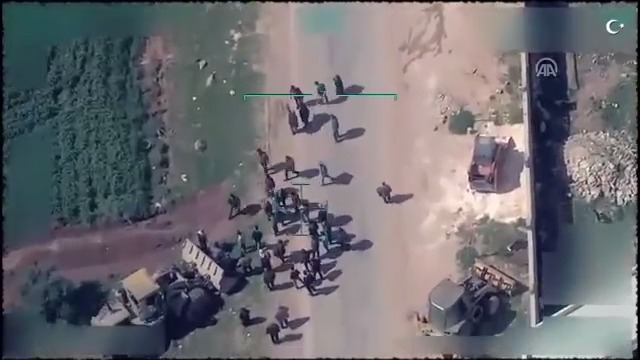arac: (84, 239, 244, 344), (408, 246, 517, 341), (464, 123, 523, 200)
insan: (225, 190, 249, 222), (317, 155, 339, 188), (299, 267, 321, 300), (325, 111, 345, 144), (279, 154, 300, 184), (374, 180, 396, 207), (311, 77, 331, 105), (260, 264, 279, 290)
